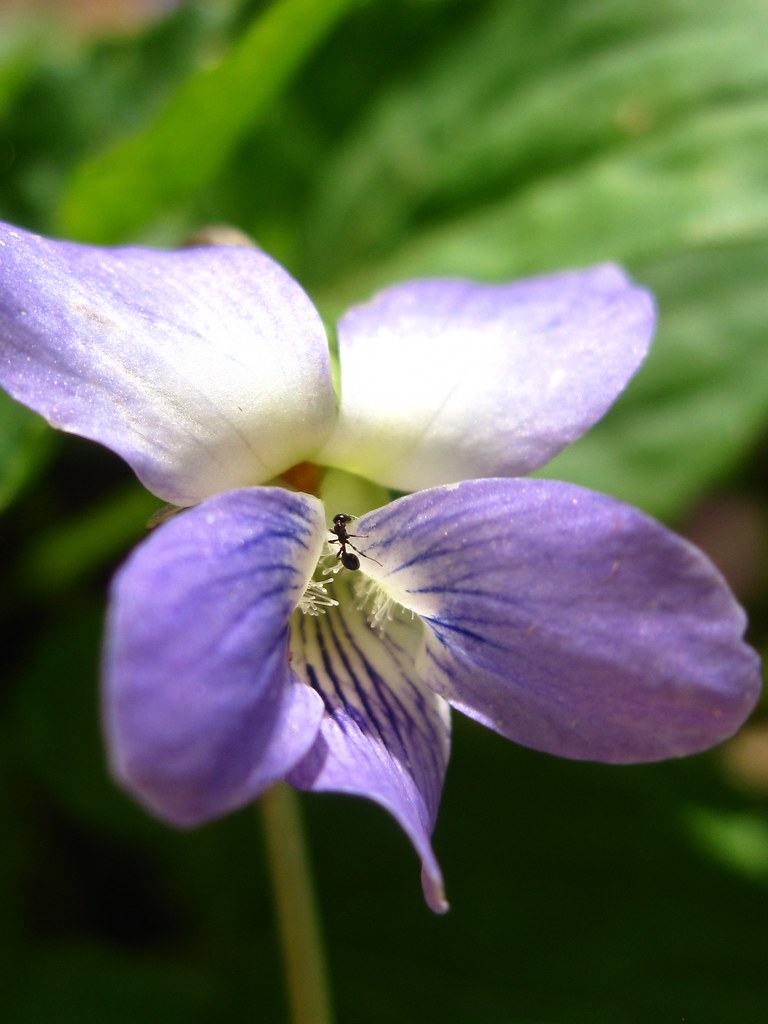violet: (5, 224, 764, 885)
